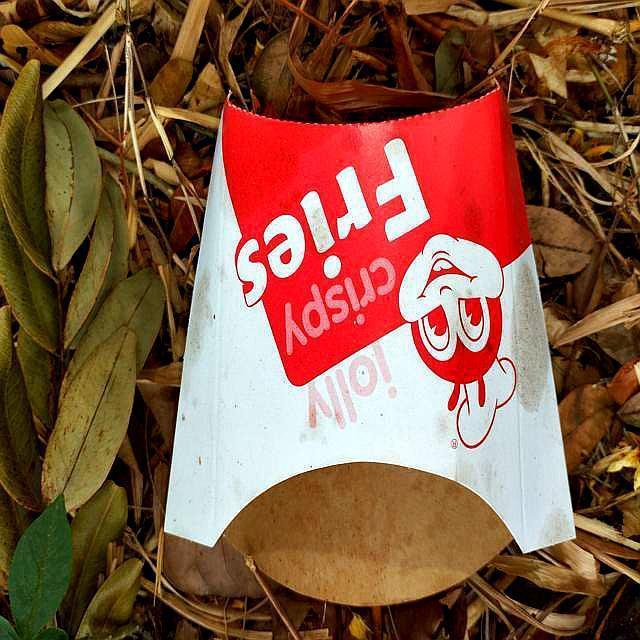Biodegradable: (167, 89, 579, 601)
